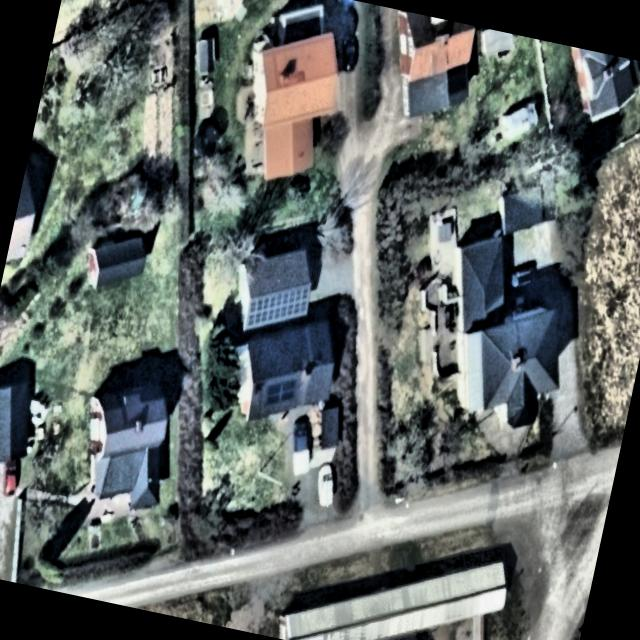roof_pv: (243, 274, 312, 342)
